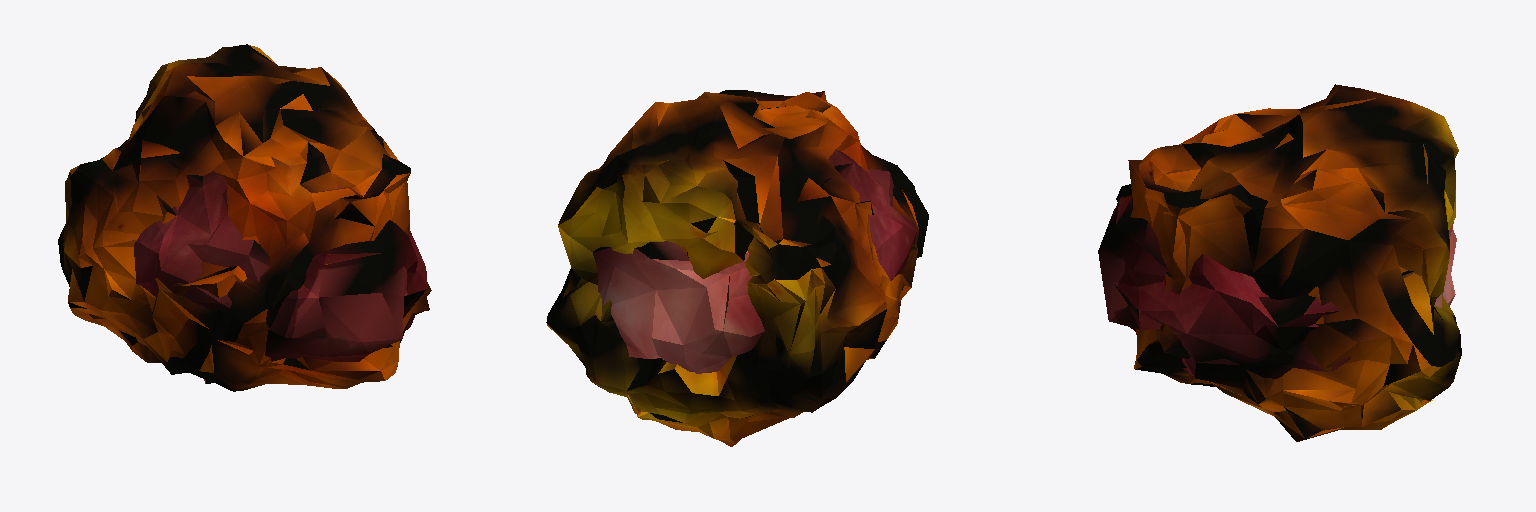
3 renders of one model, left to right at view 1: azimuth 30°, elevation 25°; view 2: azimuth 150°, elevation 25°; view 3: azimuth 270°, elevation 25°, orthographic.
Parts seen in each view (by area): view 1: Lowered_Banana_red_potato; view 2: Lowered_Banana_red_potato; view 3: Lowered_Banana_red_potato.
Part boxes in pixels (x1,y1,x2,y2): Lowered_Banana_red_potato: (58, 44, 431, 391); Lowered_Banana_red_potato: (546, 90, 928, 446); Lowered_Banana_red_potato: (1098, 84, 1461, 441).
Bounding box in the file's own units: 1.03 × 1.05 × 1.1.
2 materials, 1 textured.